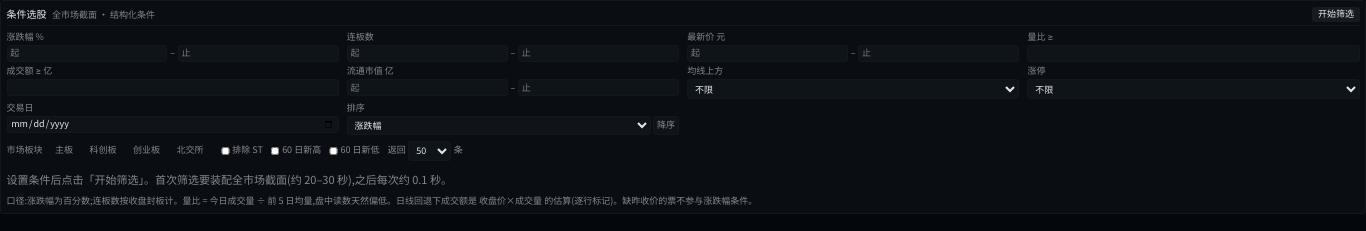
AshareScreenPanel › surfaces the server's 422 verdict verbatim
Click the button with test id "screen-run": (1336, 14) [1312,6,1360,22]
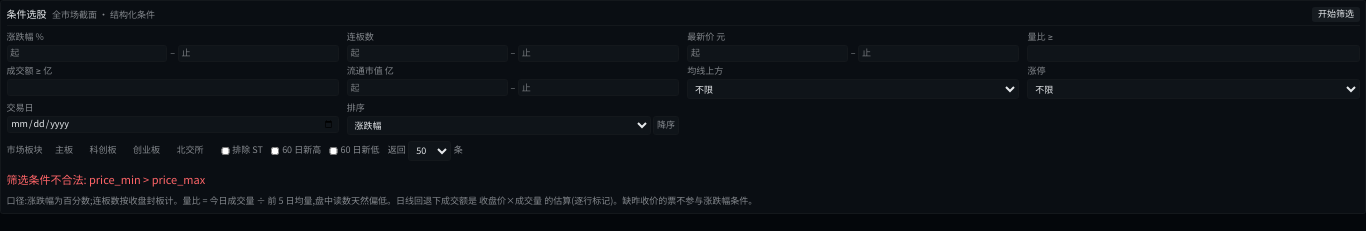
Result: the text with test id "screen-error" reads "筛选条件不合法: price_min > price_max" at [6,171,205,187]
